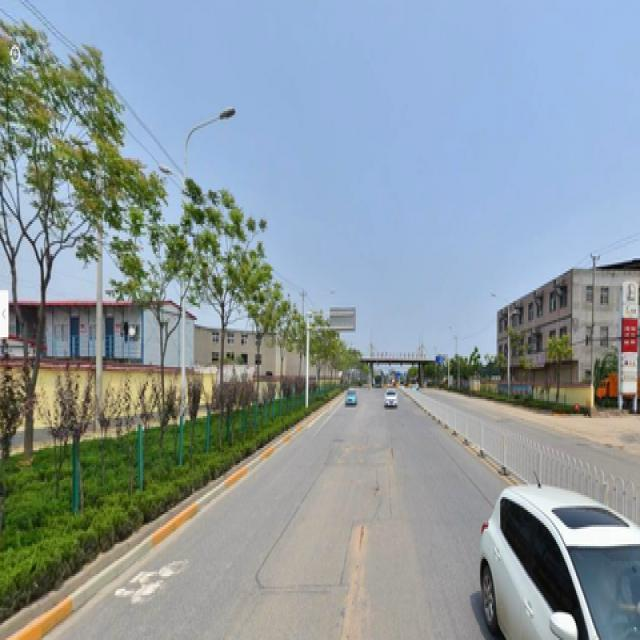koel: (9, 58, 91, 408), (193, 211, 244, 410), (134, 198, 178, 410), (256, 265, 295, 418)
